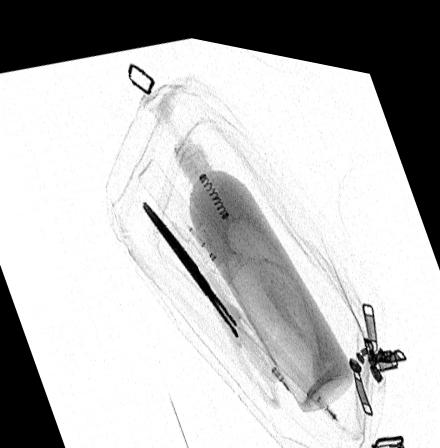Scissors: (142, 194, 282, 397)
